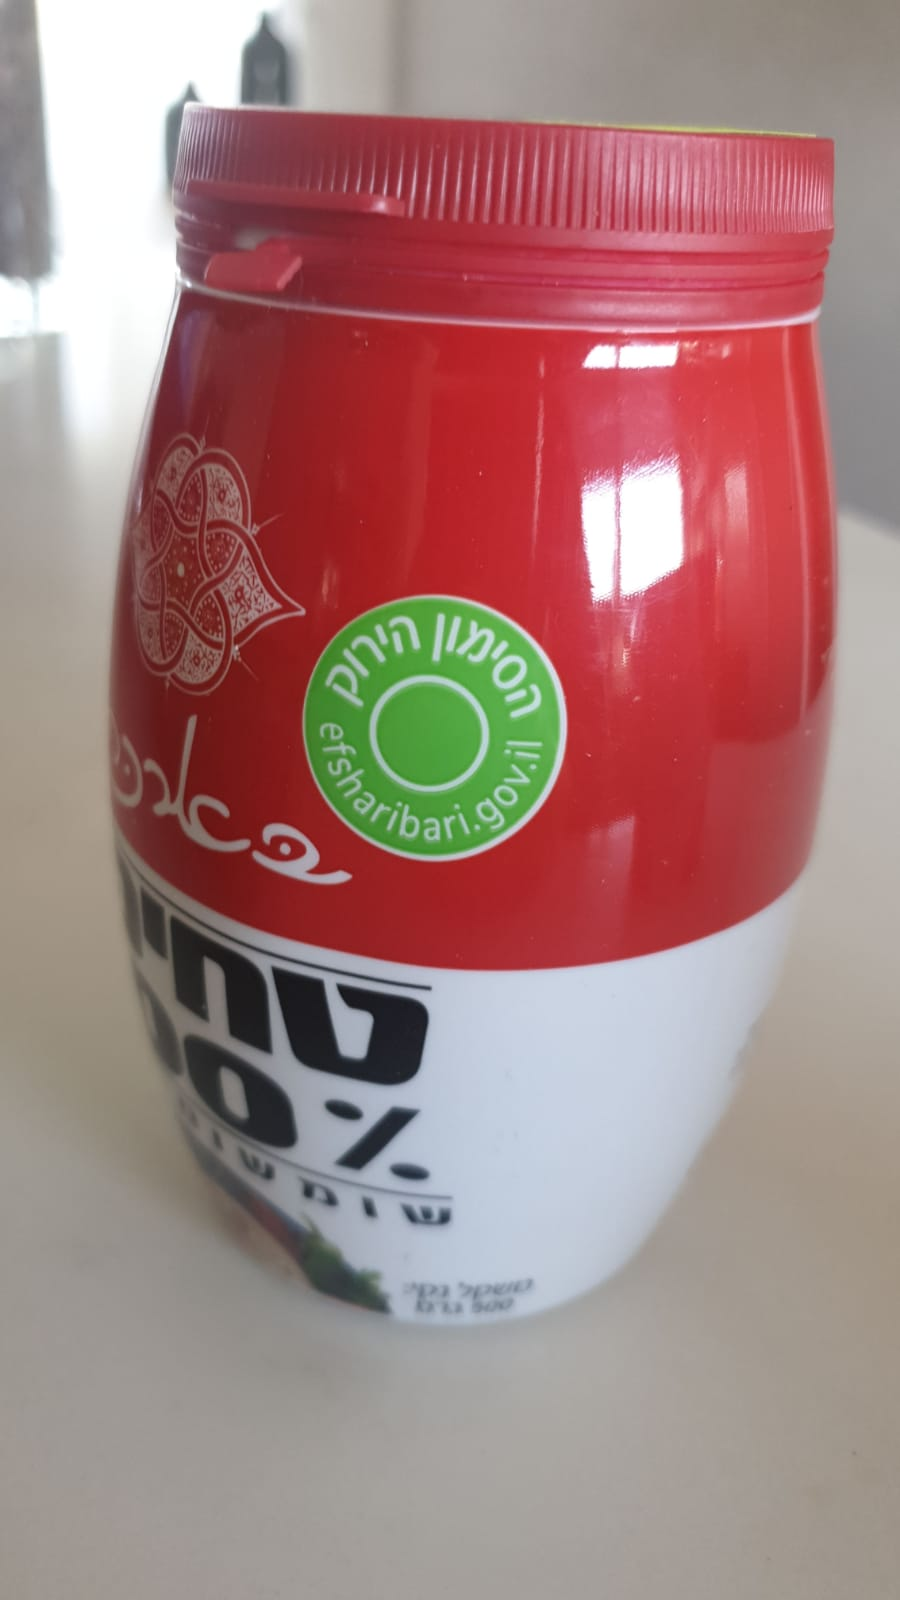green: (299, 595, 566, 863)
